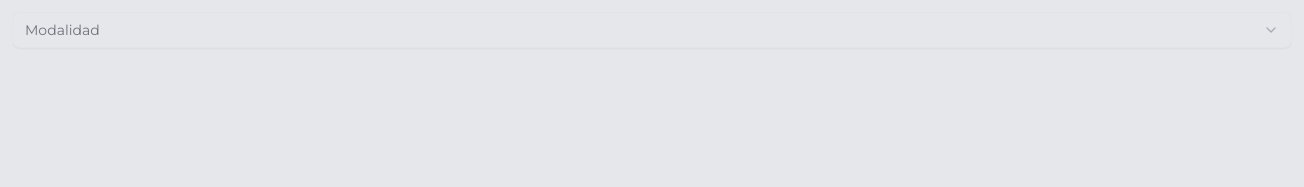
Test on <ModeSelector /> › Should show the clear filter option when a mode is set
Click the dropdown named "filtrar por modalidad" at (62,30), box [12,12,1292,48]
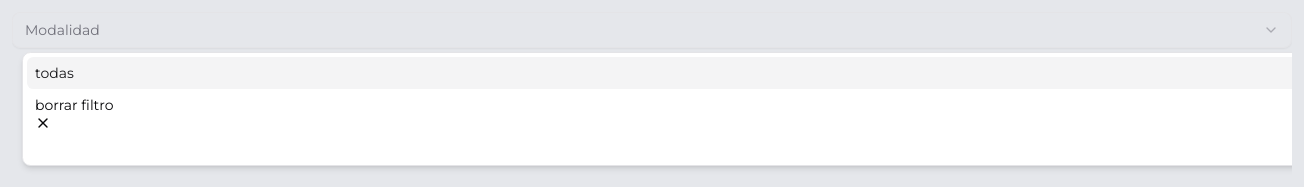
Now the option "borrar filtro" is shown, box [35,96,113,131]
